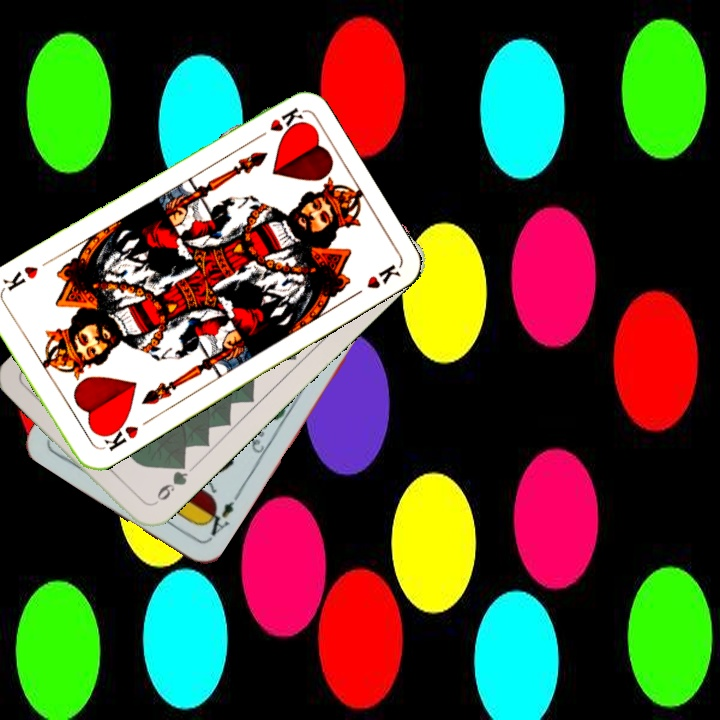EA: (198, 490, 242, 543)
G9: (148, 457, 191, 509)
HK: (249, 103, 305, 144), (97, 416, 141, 454)
